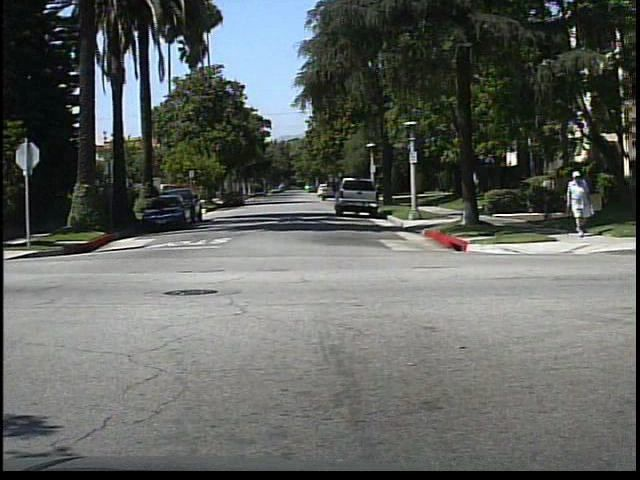person: (564, 168, 593, 240)
